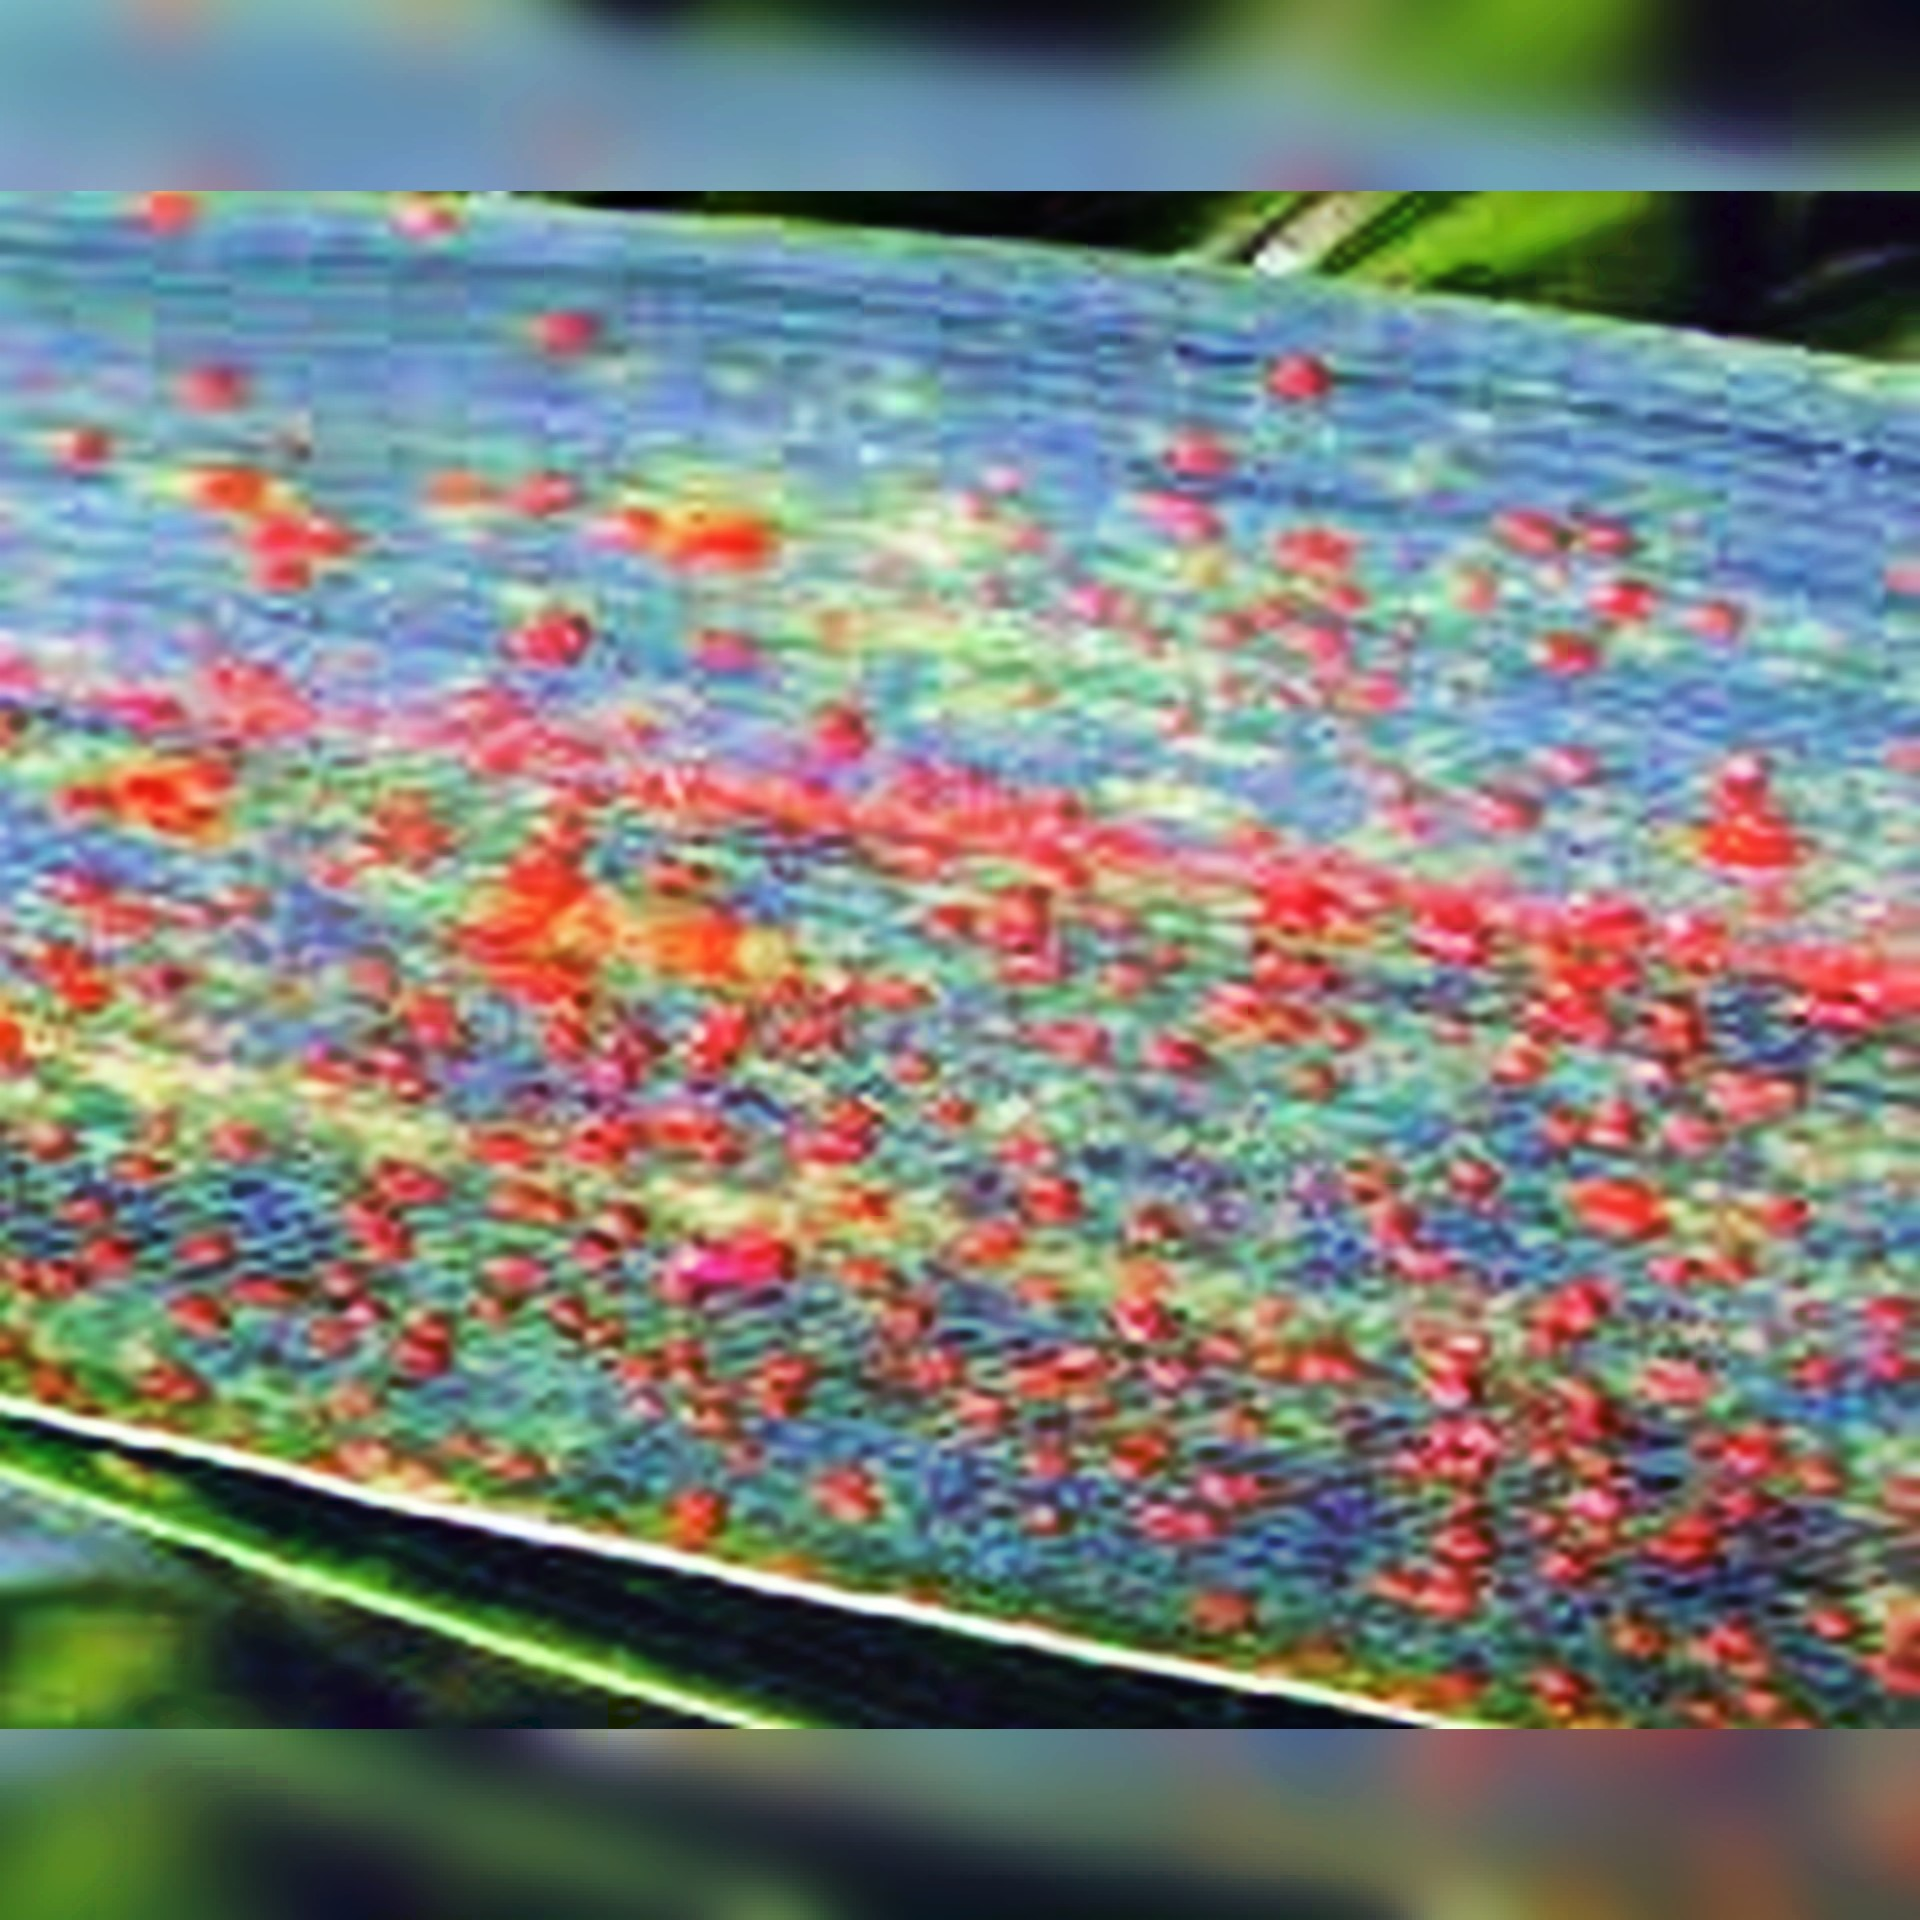Leaf Rust: (7, 336, 1844, 1697)
